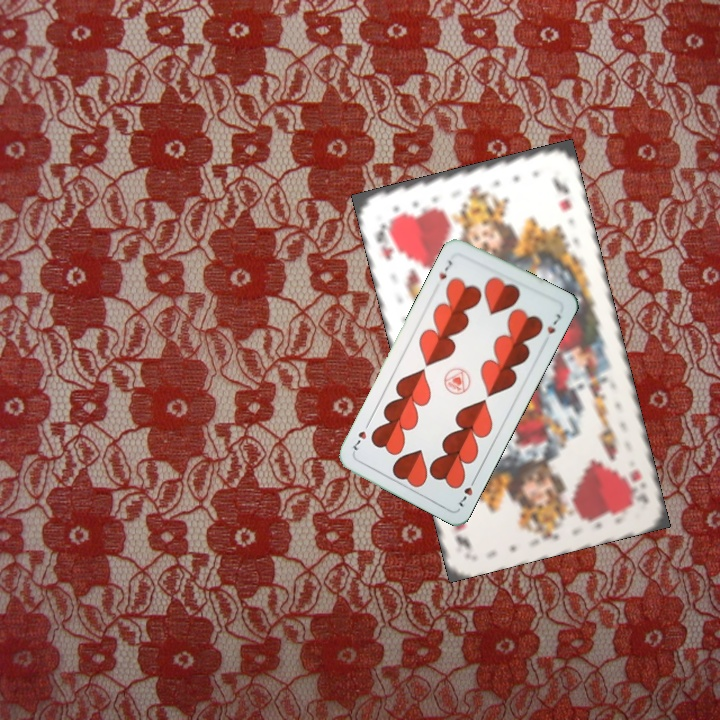H7: (453, 473, 479, 510), (435, 256, 455, 282)
HK: (370, 215, 401, 263), (621, 466, 652, 508)
